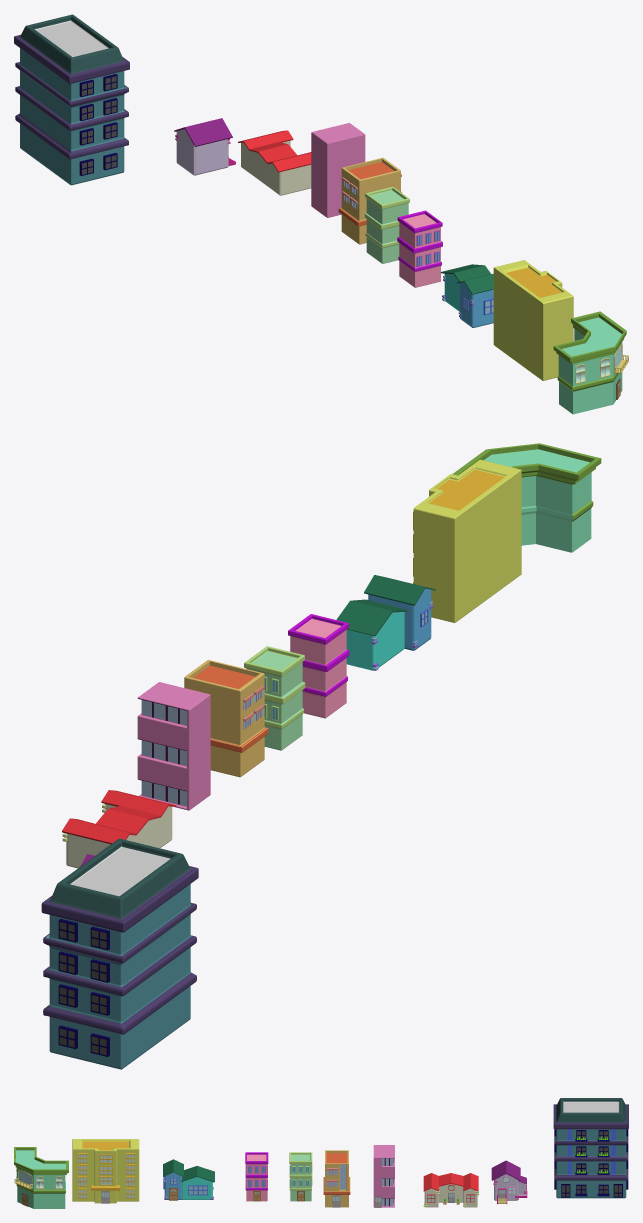
Rendered from Todas_as_casas.fbx.
3 views of the same model, one above another, from view 1: azimuth 30°, elevation 25°; view 2: azimuth 150°, elevation 25°; view 3: azimuth 270°, elevation 25° (orthographic). The views are drawn at different scales.
Parts seen in each view (by area): view 1: Cube, Cube.053, Cube.008, Cube.099, Cube.042, Cube.114, Cube.100, Cube.004, Cube.011, Cube.115; view 2: Cube, Cube.053, Cube.099, Cube.008, Cube.100, Cube.004, Cube.042, Cube.114, Cube.115; view 3: Cube, Cube.053, Cube.008, Cube.004, Cube.042, Cube.100, Cube.099, Cube.011, Cube.115, Cube.114.
Part boxes in pixels (x1=…): Cube: x1=14, y1=14, x2=129, y2=185; Cube.053: x1=493, y1=260, x2=573, y2=380; Cube.008: x1=553, y1=311, x2=628, y2=414; Cube.099: x1=311, y1=123, x2=365, y2=217; Cube.042: x1=238, y1=130, x2=311, y2=195; Cube.114: x1=397, y1=210, x2=442, y2=287; Cube.100: x1=338, y1=157, x2=401, y2=244; Cube.004: x1=441, y1=264, x2=493, y2=327; Cube.011: x1=174, y1=118, x2=235, y2=175; Cube.115: x1=364, y1=186, x2=409, y2=263; Cube: x1=41, y1=838, x2=198, y2=1069; Cube.053: x1=413, y1=459, x2=521, y2=622; Cube.099: x1=137, y1=682, x2=210, y2=810; Cube.008: x1=452, y1=443, x2=601, y2=552; Cube.100: x1=184, y1=659, x2=268, y2=777; Cube.004: x1=336, y1=575, x2=435, y2=670; Cube.042: x1=62, y1=790, x2=176, y2=868; Cube.114: x1=288, y1=614, x2=349, y2=718; Cube.115: x1=244, y1=646, x2=305, y2=750; Cube: x1=553, y1=1098, x2=628, y2=1198; Cube.053: x1=72, y1=1139, x2=139, y2=1203; Cube.008: x1=14, y1=1147, x2=68, y2=1208; Cube.004: x1=163, y1=1159, x2=214, y2=1200; Cube.042: x1=423, y1=1173, x2=478, y2=1207; Cube.100: x1=323, y1=1150, x2=350, y2=1207; Cube.099: x1=373, y1=1145, x2=394, y2=1207; Cube.011: x1=491, y1=1160, x2=527, y2=1204; Cube.115: x1=289, y1=1152, x2=312, y2=1201; Cube.114: x1=245, y1=1152, x2=268, y2=1201.
Size of the model in its own units: 916 by 630 by 4182.
